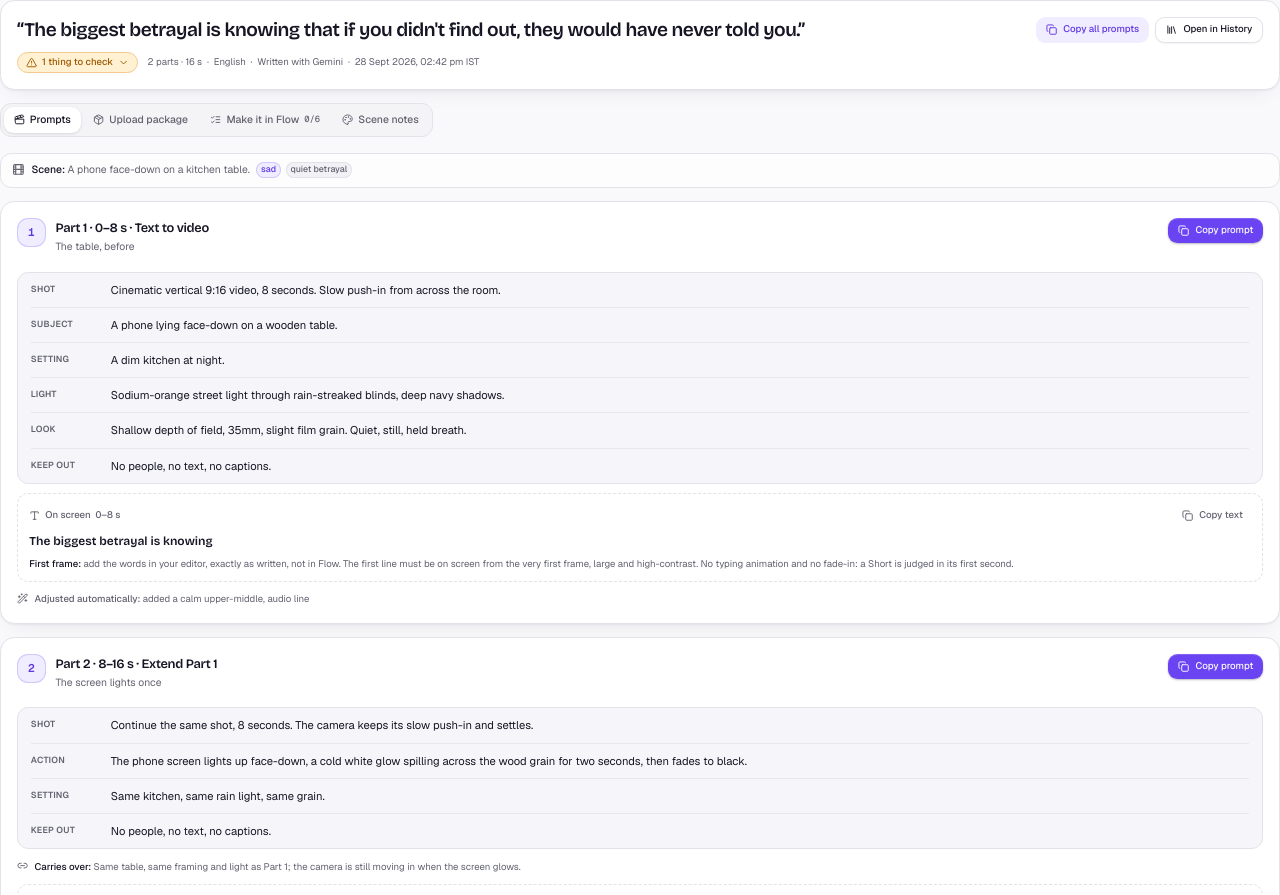
Test case: Scene notes tab › lays out the reading, the scene, the look and the sound as a definition list
What coordinates should you click on to do the following:
click the tab "Scene notes"
I would click on:
 (381, 120)
Its box is [333,107,428,132].
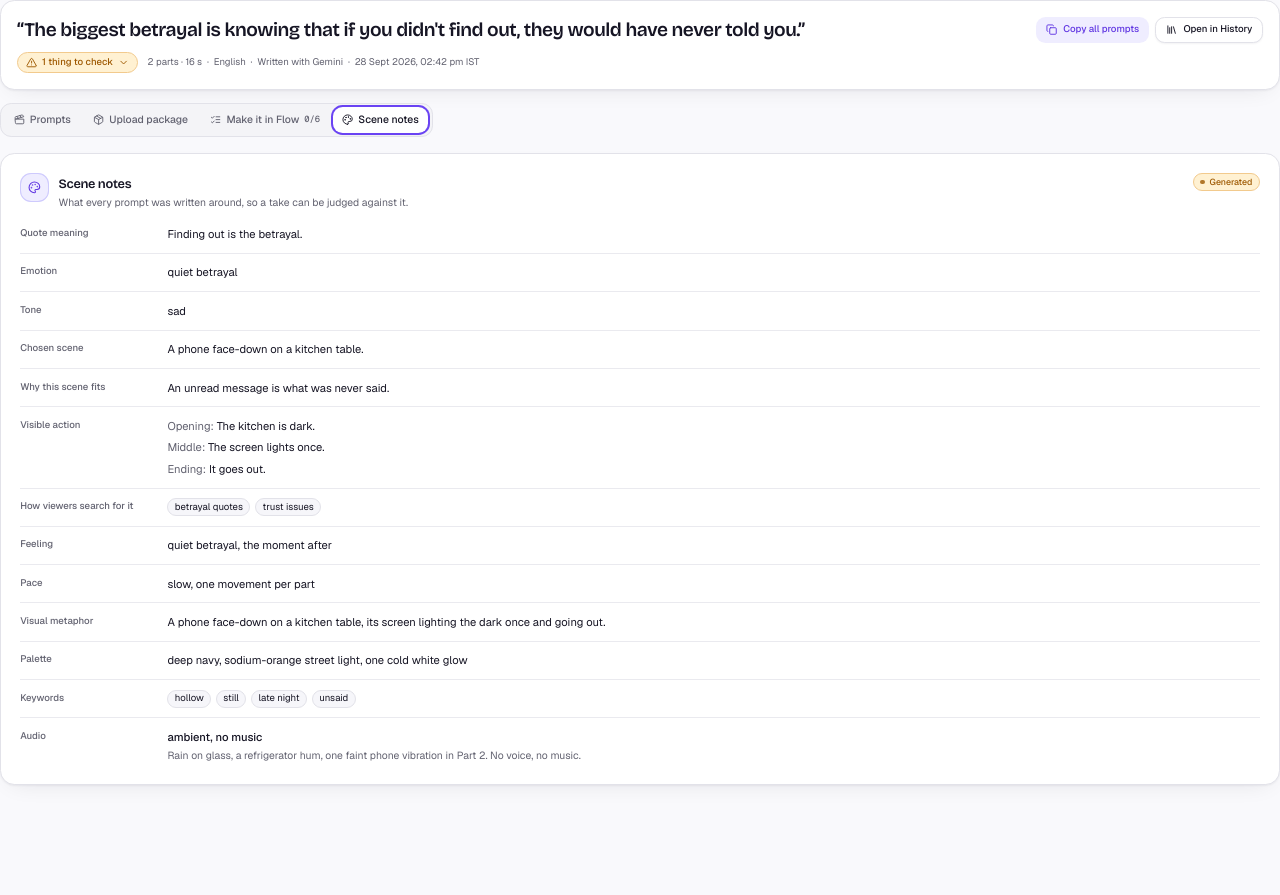
Expected: the text "An unread message is what was never said." is shown, [167,380,389,394]
Expected: the text "trust issues" is shown, [255,498,321,516]
Expected: the text "late night" is shown, [251,690,307,708]
